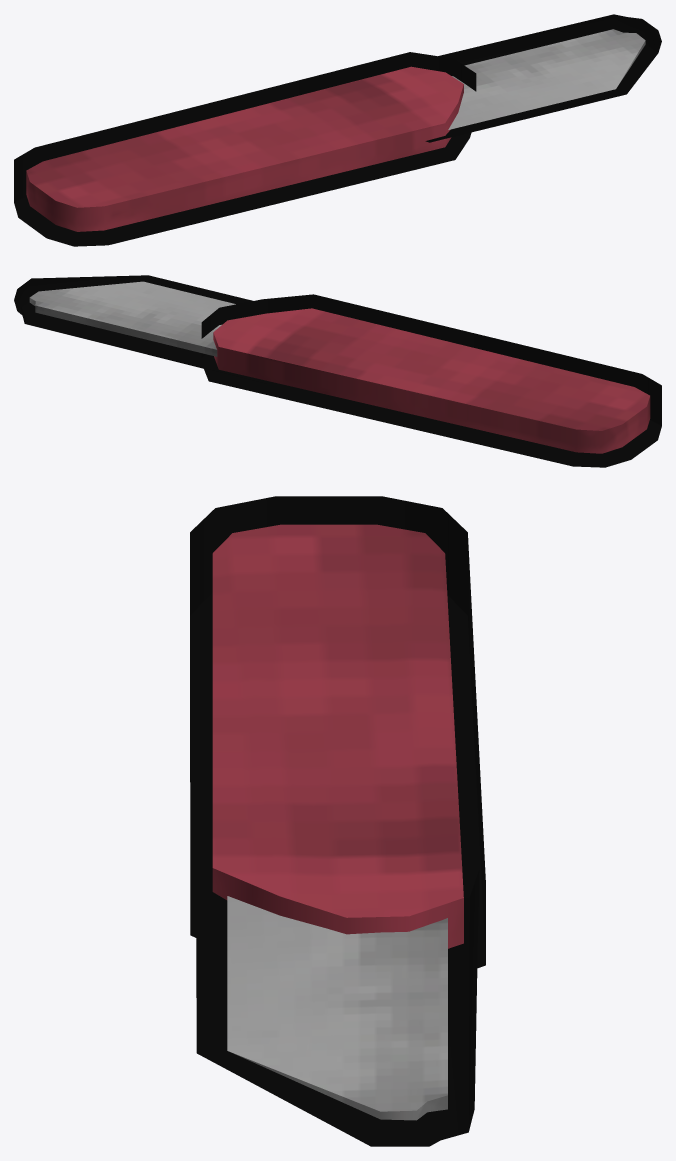
File: Estilete.glb
3 views of the same model, one above another, from view 1: azimuth 30°, elevation 25°; view 2: azimuth 150°, elevation 25°; view 3: azimuth 270°, elevation 25° (orthographic). The views are drawn at different scales.
Visible parts, largest first — view 1: Estilete; view 2: Estilete; view 3: Estilete.
Boxes of the visible parts, x1,y1,x2,y2 form: Estilete: [14, 14, 661, 246]; Estilete: [14, 275, 661, 467]; Estilete: [190, 496, 485, 1146].
Bounding box in the file's own units: 2.91 × 0.1949 × 0.6169.
Materials: 2 (1 with a texture image).
